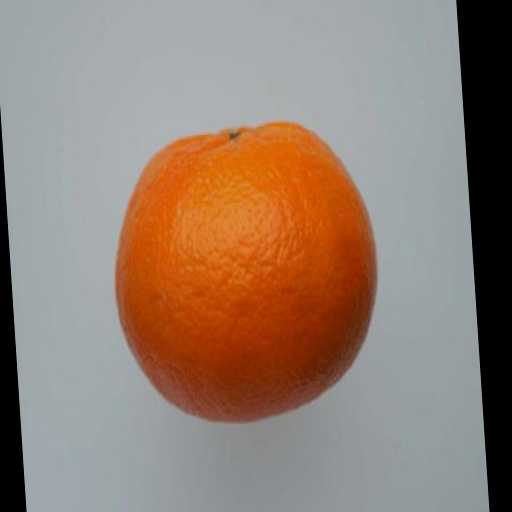fruit: (115, 123, 376, 421)
